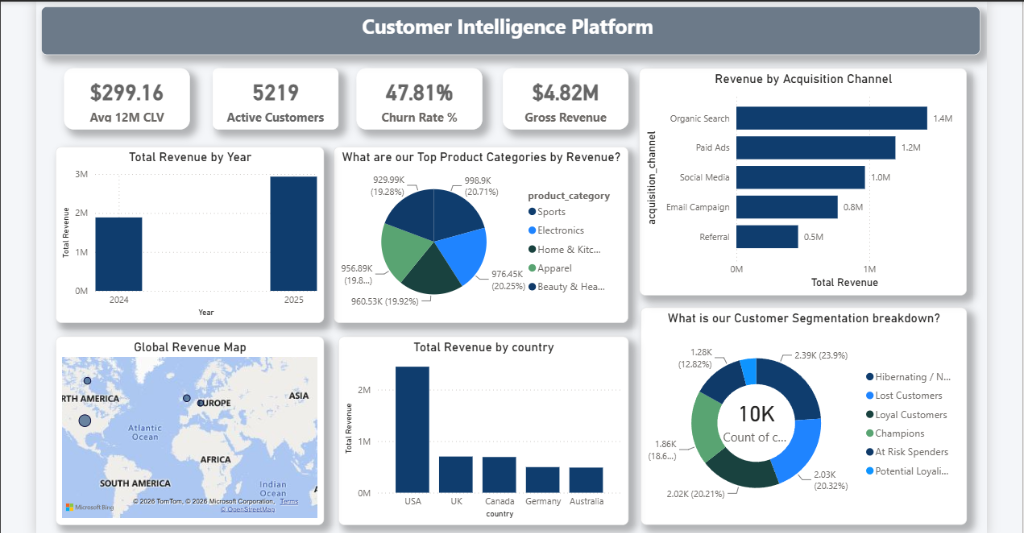

This screenshot's page, from the dashboard's own definition file:
{"tool":"powerbi","page":{"name":"Executive Overview.","canvas":[1280,720],"ordinal":0},"visuals":[{"type":"card","fields":{"Values":["Fact_Transactions.Total Revenue"]},"box":[627.8,89.5,169.2,83],"z":0},{"type":"card","fields":{"Values":["Dim_Customer_Analytics.Churn Rate %"]},"box":[431,89.5,169.2,83],"z":1000},{"type":"card","fields":{"Values":["Dim_Customer_Analytics.Avg Predicted 12M CLV"]},"box":[37.4,89.5,169.2,83],"z":2000},{"type":"donutChart","title":"What is our Customer Segmentation breakdown?","fields":{"Category":["Dim_Customer_Analytics.rfm_segment"],"Y":["CountNonNull(Dim_Customer_Analytics.customer_id)"]},"box":[813.3,411.5,439.2,292.8],"z":3000},{"type":"clusteredBarChart","title":"Revenue by Acquisition Channel","fields":{"Category":["Dim_Customer_Analytics.acquisition_channel"],"Y":["Fact_Transactions.Total Revenue"]},"box":[811.6,89.5,440.8,305.8],"z":4000},{"type":"card","fields":{"Values":["Dim_Customer_Analytics.Total Active Customers"]},"box":[237.5,89.5,169.2,83],"z":5000},{"type":"clusteredColumnChart","title":"Total Revenue by country","fields":{"Category":["Dim_Customer_Analytics.country"],"Y":["Fact_Transactions.Total Revenue"]},"box":[406.6,450.6,390.4,253.7],"z":6000},{"type":"pieChart","title":"What are our Top Product Categories by Revenue?","fields":{"Category":["Fact_Transactions.product_category"],"Y":["Fact_Transactions.Total Revenue"]},"box":[400.1,195.2,396.9,237.5],"z":7000},{"type":"lineClusteredColumnComboChart","fields":{"Category":["Fact_Transactions.transaction_date.Variation.Date Hierarchy.Year","Fact_Transactions.transaction_date.Variation.Date Hierarchy.Quarter","Fact_Transactions.transaction_date.Variation.Date Hierarchy.Month","Fact_Transactions.transaction_date.Variation.Date Hierarchy.Day"],"Y":["Fact_Transactions.Total Revenue"]},"box":[26,195.2,361.1,237.5],"z":8000},{"type":"map","title":"Global Revenue Map","fields":{"Category":["Dim_Customer_Analytics.country"],"Size":["Fact_Transactions.Total Revenue"]},"box":[26,450.6,361.1,253.7],"z":9000},{"type":"textbox","box":[6.5,6.5,1263.8,65.1],"z":10000}]}

Visuals, with their boxes on the page's 1280x720 design canvas (x1, y1, x2, y2). These are canvas units, not pixel positions in the 1024x533 screenshot, which may show the page scaled, cropped or inside an application window:
card - Fact_Transactions.Total Revenue: 628, 90, 797, 172
card - Dim_Customer_Analytics.Churn Rate %: 431, 90, 600, 172
card - Dim_Customer_Analytics.Avg Predicted 12M CLV: 37, 90, 207, 172
"What is our Customer Segmentation breakdown?" donutChart: 813, 412, 1252, 704
"Revenue by Acquisition Channel" clusteredBarChart: 812, 90, 1252, 395
card - Dim_Customer_Analytics.Total Active Customers: 238, 90, 407, 172
"Total Revenue by country" clusteredColumnChart: 407, 451, 797, 704
"What are our Top Product Categories by Revenue?" pieChart: 400, 195, 797, 433
lineClusteredColumnComboChart - Fact_Transactions.transaction_date.Variation.Date Hierarchy.Year x Fact_Transactions.transaction_date.Variation.Date Hierarchy.Quarter: 26, 195, 387, 433
"Global Revenue Map" map: 26, 451, 387, 704
textbox: 6, 6, 1270, 72
